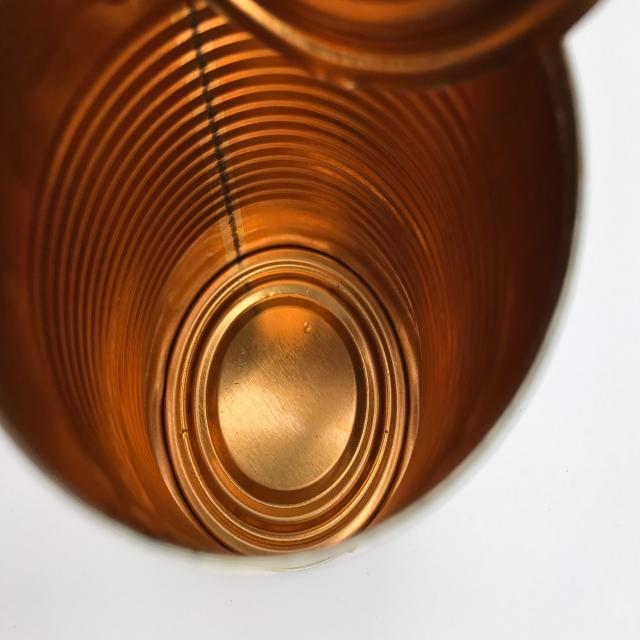metal: (0, 0, 610, 564)
